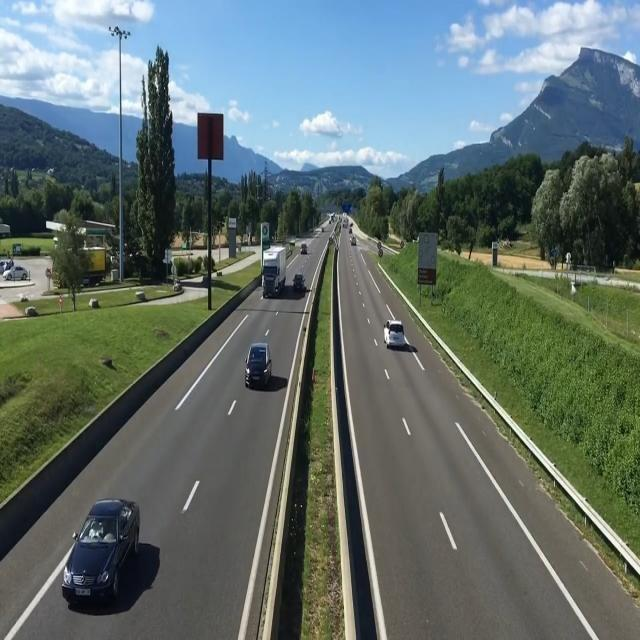Car: (60, 497, 141, 608), (244, 342, 273, 388), (383, 320, 406, 350), (2, 265, 30, 281), (293, 274, 306, 292), (300, 243, 308, 254), (350, 236, 357, 246)
Truck: (261, 245, 286, 298)
